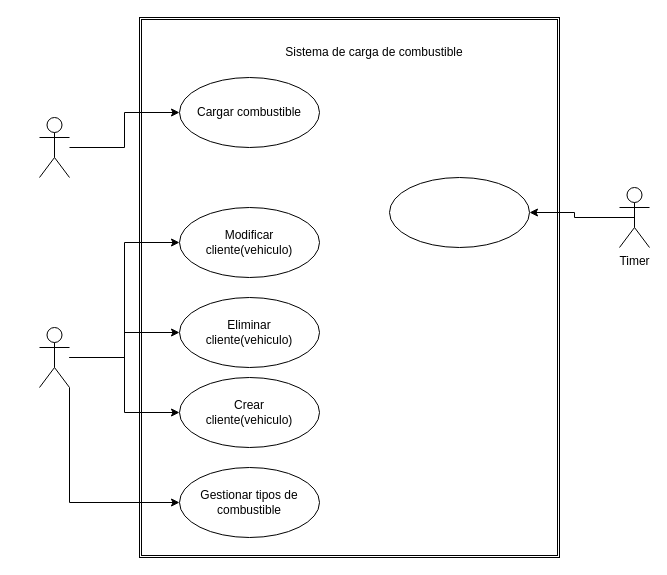
Some shapes in this 667 by 575 pixel diagram are drawn without their labels. Each missing label, with the box of its shape:
Administrador: (38, 326, 70, 388)
Conductor: (38, 116, 70, 178)
Informe de ventas: (388, 176, 530, 248)
